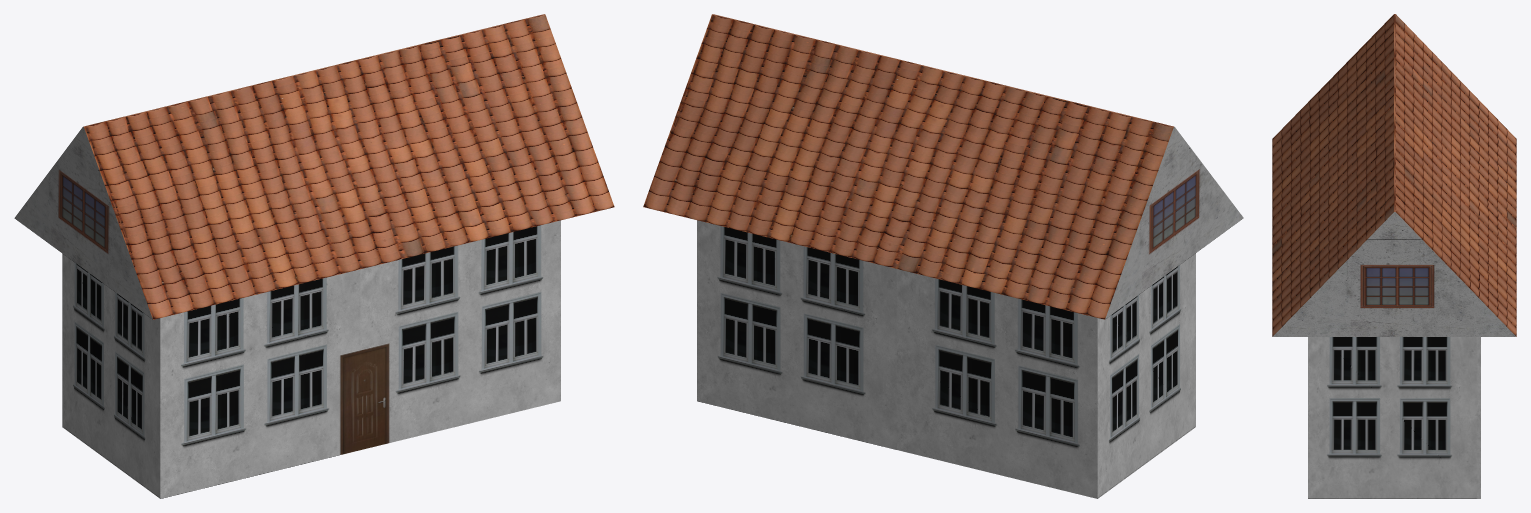
Rendered from house1.fbx.
3 renders of one model, left to right at view 1: azimuth 30°, elevation 25°; view 2: azimuth 150°, elevation 25°; view 3: azimuth 270°, elevation 25°, orthographic. The views are drawn at different scales.
Parts seen in each view (by area): view 1: Cube.001, Cube; view 2: Cube.001, Cube; view 3: Cube.001, Cube.
Boxes of the visible parts, x1,y1,x2,y2 form: Cube.001: (14,14,614,319); Cube: (62,220,560,498); Cube.001: (643,14,1243,319); Cube: (697,220,1195,498); Cube.001: (1272,14,1516,336); Cube: (1308,337,1480,498).
Size of the model in its own units: 1449 by 1028 by 755.
7 materials, 6 textured.
